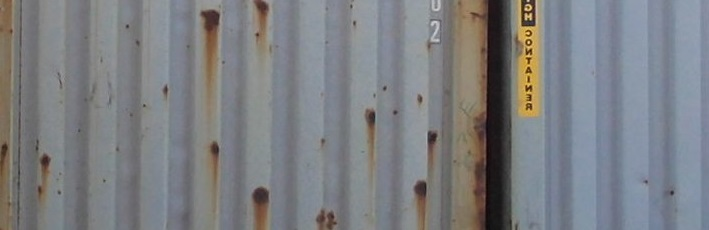container_no_door: (3, 4, 488, 228)
